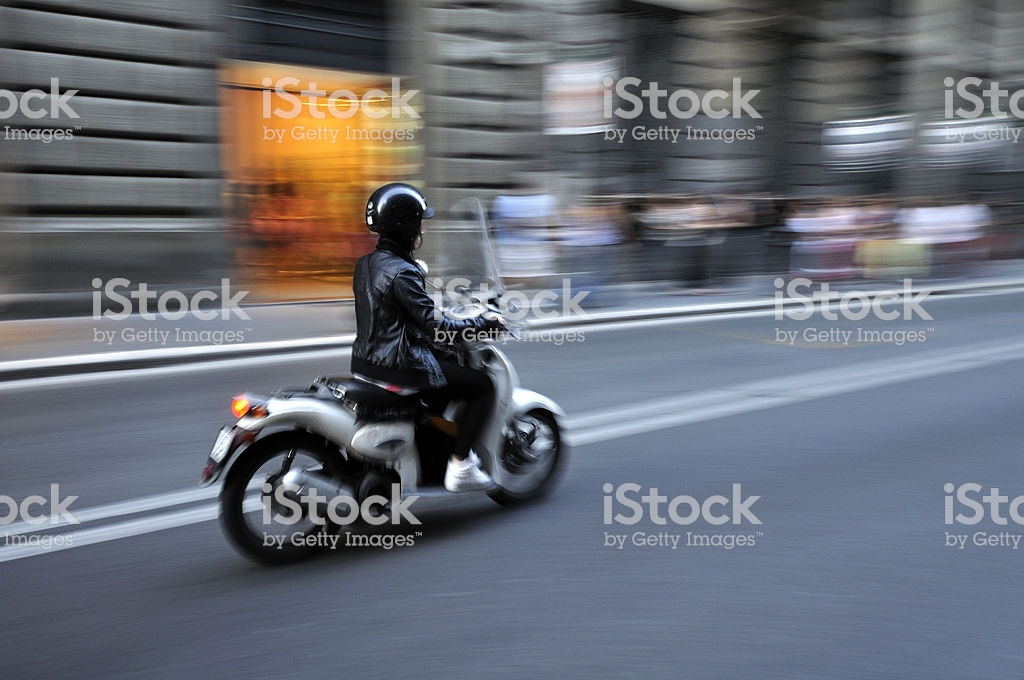helmet: (361, 186, 441, 232)
